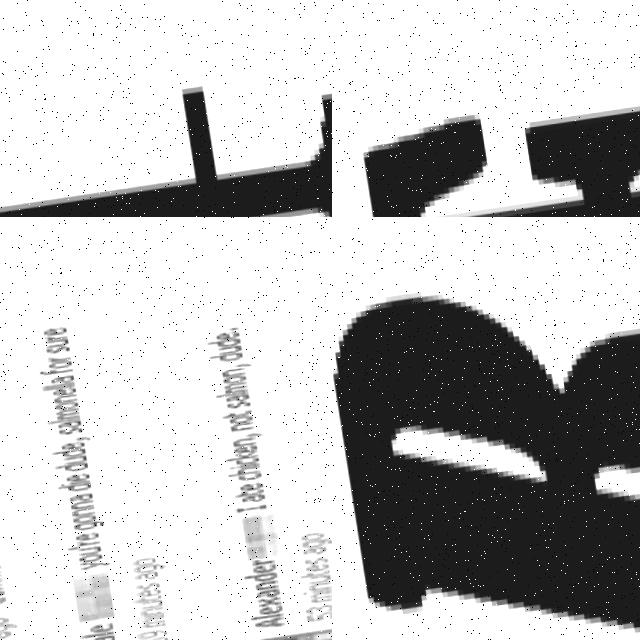1: (292, 620, 329, 632)
5: (124, 633, 157, 640)
A: (240, 625, 274, 639), (243, 596, 273, 610), (215, 401, 249, 412), (230, 501, 260, 513), (42, 378, 69, 389), (123, 577, 150, 588), (60, 497, 86, 508), (50, 425, 76, 436), (292, 555, 318, 566)
B: (332, 294, 640, 638)
C: (230, 481, 254, 492), (227, 465, 253, 474)
D: (47, 487, 84, 500), (44, 467, 81, 480), (199, 360, 236, 373), (43, 451, 80, 464), (231, 580, 268, 592), (201, 346, 238, 357)
E: (74, 626, 104, 640), (51, 445, 81, 458), (223, 452, 253, 464), (294, 571, 324, 583), (241, 572, 268, 585), (229, 490, 258, 502), (65, 536, 92, 547), (38, 330, 65, 341), (210, 337, 236, 348), (58, 477, 82, 488), (248, 614, 272, 625), (127, 594, 151, 604), (44, 393, 71, 401)
F: (341, 59, 640, 217), (33, 372, 69, 380)
G: (63, 525, 97, 537), (291, 547, 327, 558), (122, 569, 159, 579), (0, 624, 8, 635)
H: (218, 474, 252, 485)
I: (225, 513, 258, 521), (289, 598, 323, 605), (49, 484, 82, 491), (120, 620, 154, 626), (219, 471, 253, 477)
K: (215, 460, 252, 470)
L: (208, 400, 245, 407), (33, 389, 70, 396), (33, 387, 69, 394), (38, 423, 74, 429), (238, 622, 271, 628), (68, 637, 101, 640)
M: (131, 622, 155, 635), (218, 390, 242, 403), (48, 414, 75, 425), (297, 601, 321, 613)
N: (61, 513, 88, 524), (46, 399, 73, 410), (129, 612, 156, 623), (243, 589, 270, 600), (224, 445, 251, 456), (61, 505, 87, 516), (221, 430, 247, 441), (298, 591, 322, 602), (215, 376, 238, 386)
O: (62, 519, 89, 530), (47, 405, 74, 416), (121, 563, 148, 574), (68, 558, 94, 569), (42, 364, 68, 375), (217, 382, 241, 393), (223, 422, 246, 433), (290, 542, 317, 551)
R: (41, 360, 64, 368), (40, 338, 63, 346), (239, 566, 265, 573), (67, 544, 91, 551)
S: (217, 407, 247, 419), (38, 349, 65, 360), (51, 431, 77, 442), (124, 588, 151, 597), (293, 566, 320, 575)
T: (119, 600, 153, 611), (214, 418, 247, 427), (225, 498, 258, 506), (292, 580, 321, 588)
U: (53, 461, 80, 472), (211, 352, 238, 363), (39, 343, 63, 354), (130, 605, 154, 616), (297, 583, 321, 594), (67, 551, 93, 560)
X: (244, 603, 274, 618)
Y: (69, 564, 102, 576)
